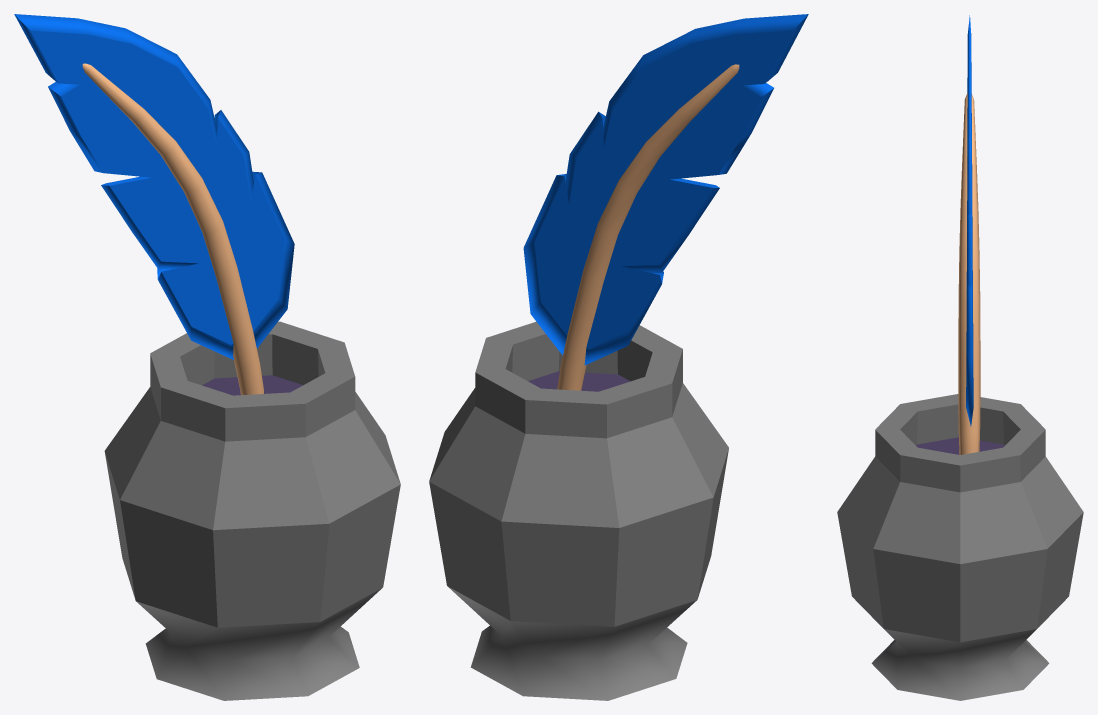
Rendered from Quill.fbx.
3 renders of one model, left to right at view 1: azimuth 30°, elevation 25°; view 2: azimuth 150°, elevation 25°; view 3: azimuth 270°, elevation 25°, orthographic. The views are drawn at different scales.
Visible parts, largest first — view 1: Inkpot, Quill, Ink; view 2: Inkpot, Quill, Ink; view 3: Inkpot, Quill, Ink.
Part boxes in pixels (x1,y1,x2,y2): Inkpot: [104, 321, 400, 700]; Quill: [14, 14, 294, 395]; Ink: [202, 375, 302, 395]; Inkpot: [429, 321, 728, 700]; Quill: [523, 14, 808, 390]; Ink: [528, 371, 630, 391]; Inkpot: [837, 394, 1083, 700]; Quill: [958, 15, 980, 454]; Ink: [916, 437, 1004, 454].
Bounding box in the file's own units: 8.88 × 16.12 × 6.46.
